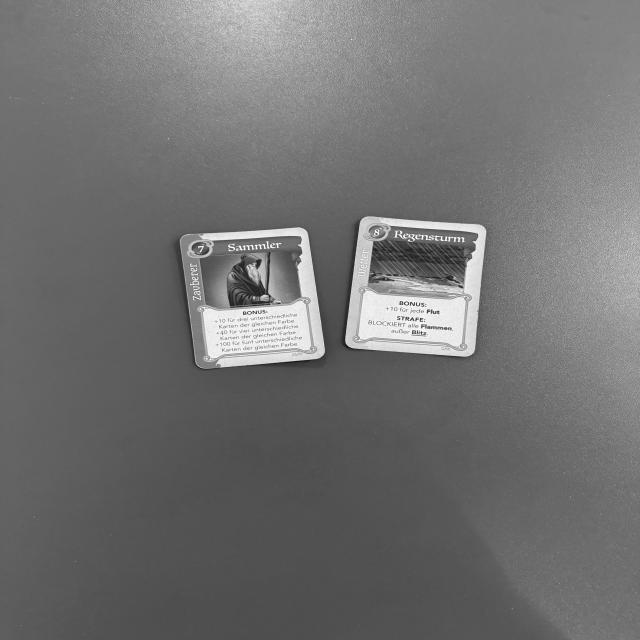Collector: (179, 228, 328, 370)
Rainstorm: (339, 213, 488, 358)
